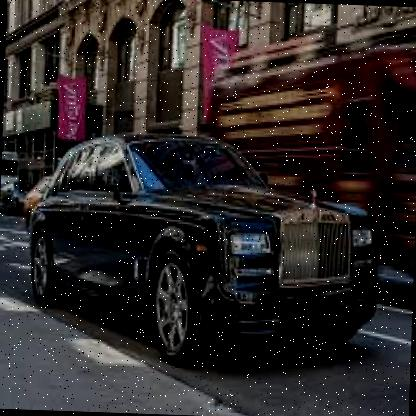car: (16, 119, 388, 376)
